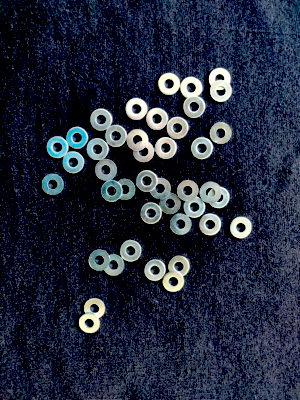circle: (93, 158, 119, 184), (141, 258, 168, 283), (208, 121, 233, 147), (227, 216, 252, 241), (85, 249, 111, 273), (85, 138, 111, 162), (41, 173, 65, 198), (156, 72, 181, 96), (191, 136, 216, 160), (166, 255, 192, 278), (82, 297, 106, 321), (119, 239, 143, 263), (61, 152, 85, 176), (166, 116, 190, 140), (139, 203, 163, 227), (168, 213, 192, 237), (199, 213, 223, 237), (105, 124, 128, 149), (124, 98, 149, 121), (209, 80, 234, 103), (146, 107, 169, 132), (159, 191, 182, 216), (102, 255, 126, 278), (149, 177, 172, 201), (101, 179, 123, 204), (182, 96, 207, 118), (46, 137, 69, 160), (209, 68, 232, 91), (154, 137, 177, 160), (135, 170, 158, 193), (176, 179, 199, 202), (208, 186, 231, 209), (66, 126, 88, 150), (90, 108, 112, 132), (133, 141, 155, 165), (115, 179, 137, 202), (127, 129, 149, 152), (200, 181, 222, 204), (162, 271, 186, 292), (181, 76, 202, 100), (184, 196, 206, 218), (79, 314, 101, 334)
